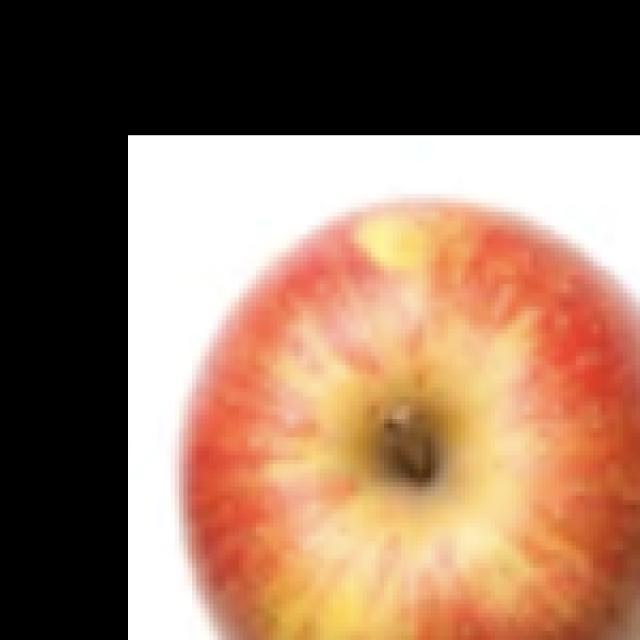Apple: (180, 195, 639, 639)
